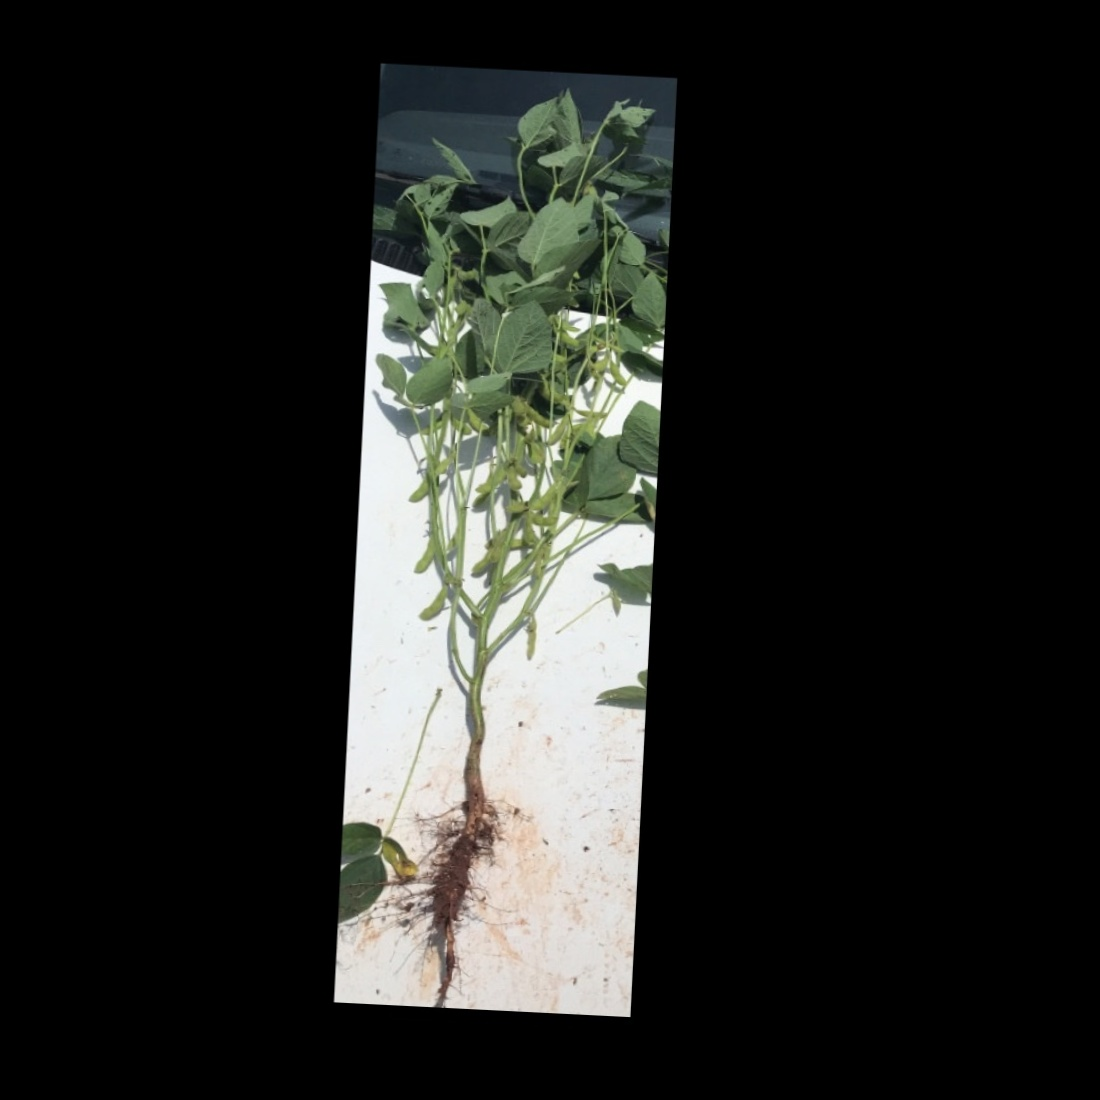pod: (409, 581, 452, 627), (410, 530, 438, 579), (543, 414, 568, 452), (405, 472, 430, 506), (464, 409, 492, 437), (524, 512, 563, 528), (610, 358, 630, 390)
soy: (347, 87, 655, 958)
